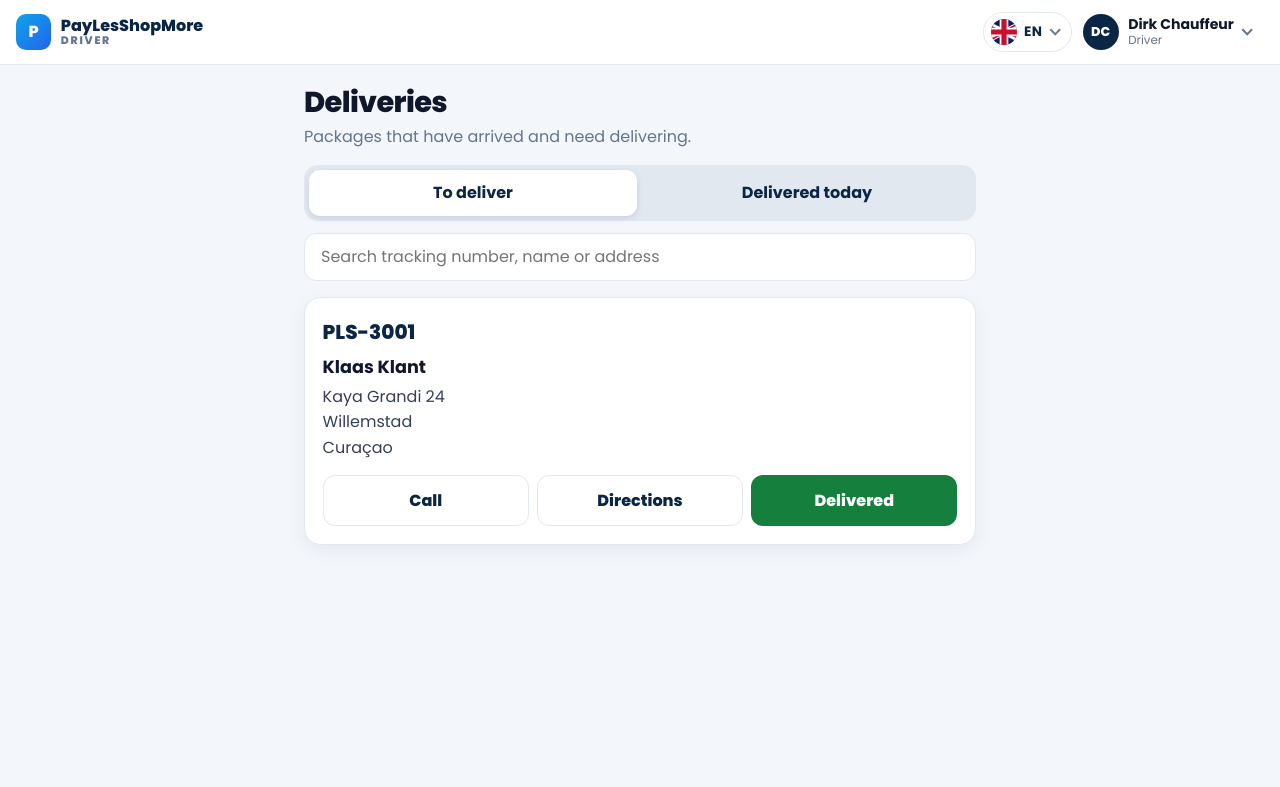
Test: DriverPage › records a delivery with the name of whoever took it
Click the button "Delivered" at (854, 501), box [751, 475, 957, 526]
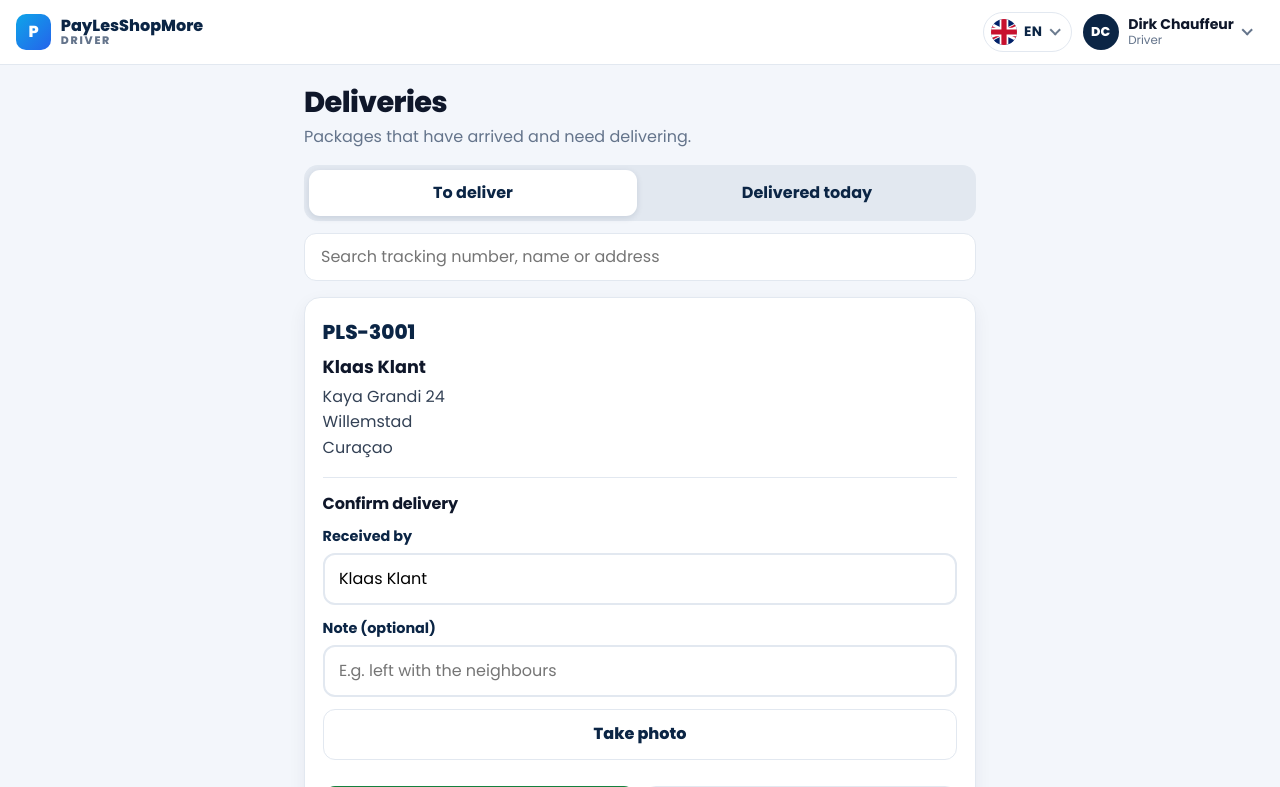
Expected: the field labelled "Received by" holds "Klaas Klant"
Replace the text in the field labelled "Received by" with "Buurvrouw" at (640, 579), box [323, 553, 957, 605]
(page scrolled)
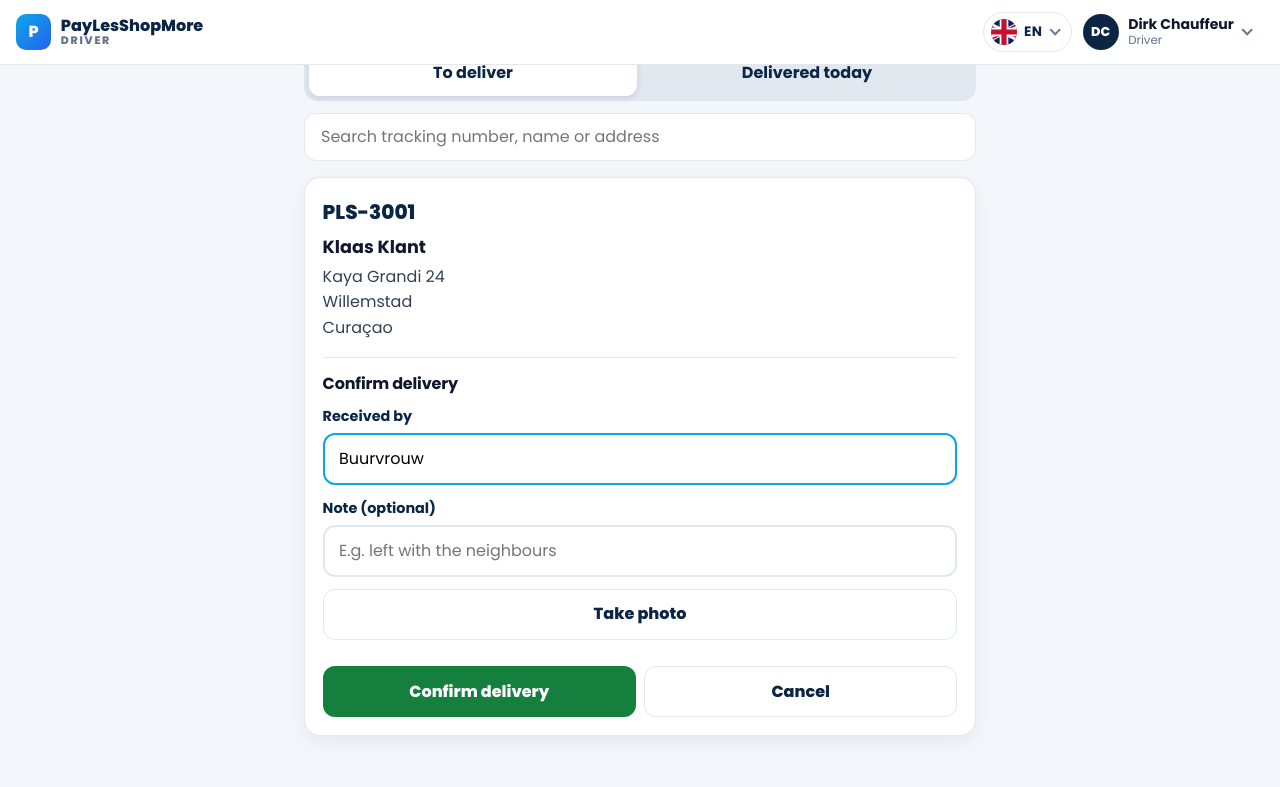
Click the button "Confirm delivery" at (479, 692), box [323, 666, 636, 717]
(page scrolled)
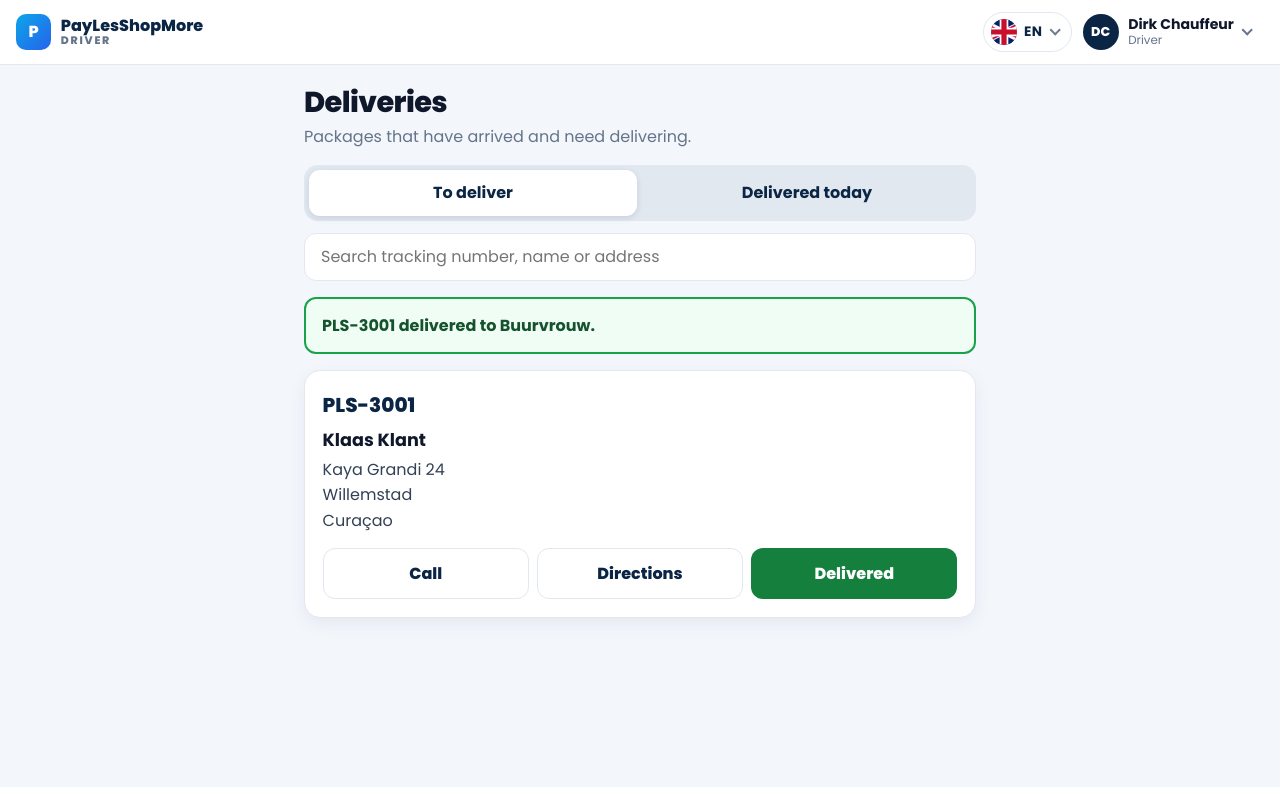
Expected: the text "PLS-3001 delivered to Buurvrouw." is shown, [304, 297, 976, 354]
